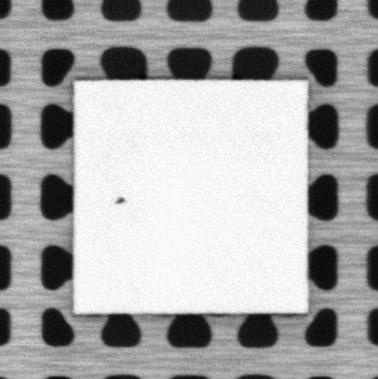DIE_INK: (113, 195, 125, 206)
